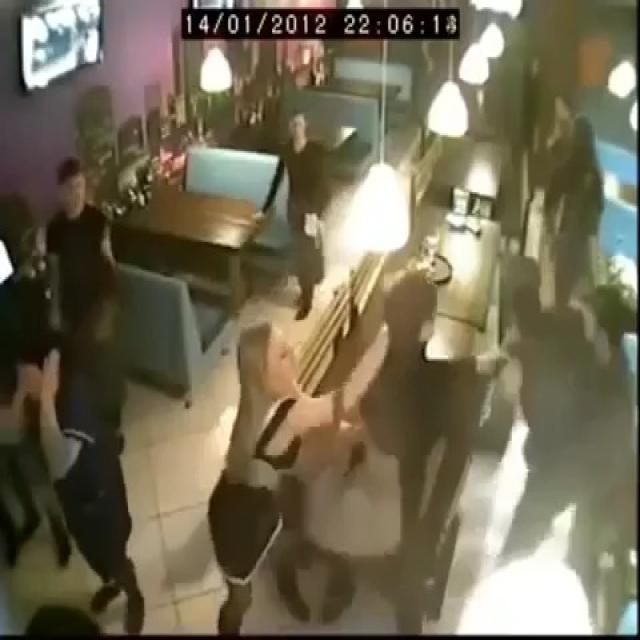fight: (207, 270, 478, 635)
